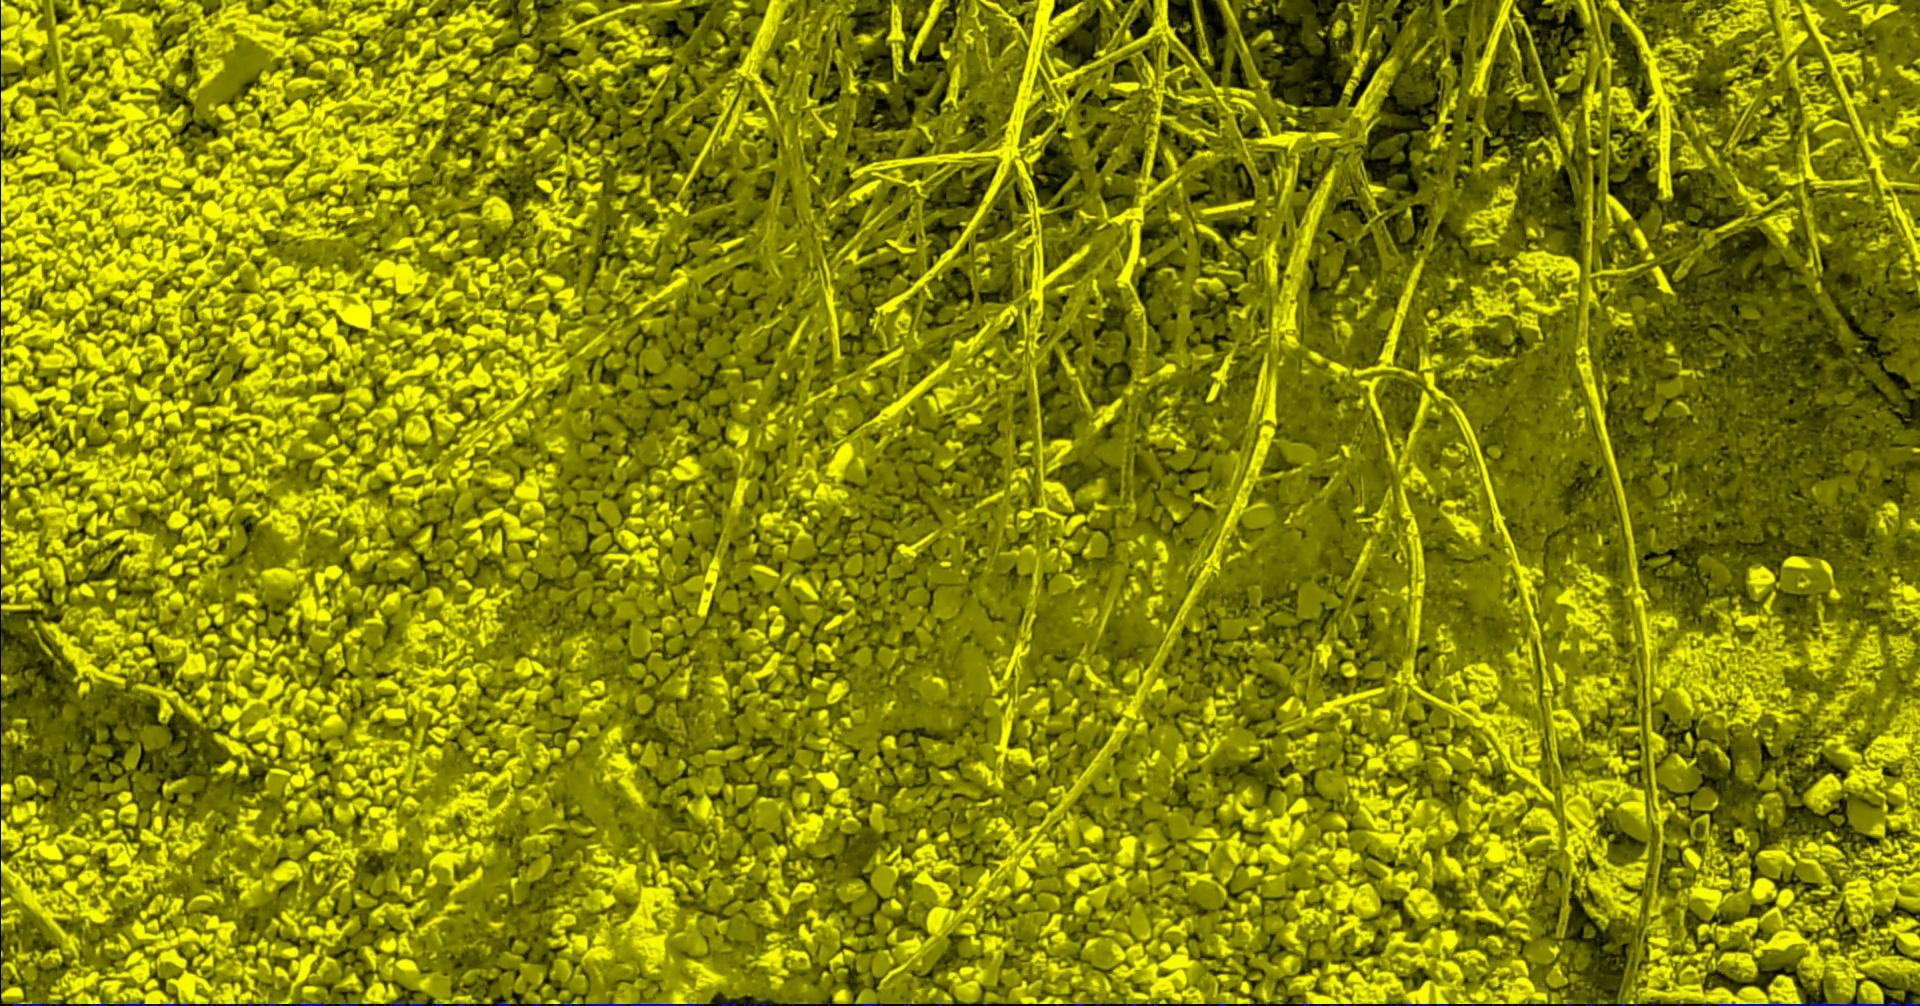ant: (1718, 1001, 1920, 1005), (532, 1002, 706, 1005), (290, 1002, 378, 1005), (114, 1002, 190, 1005), (383, 1001, 427, 1005), (11, 1002, 62, 1005)
